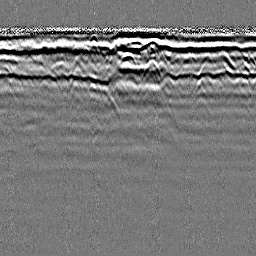cavity: (119, 50, 137, 66)
